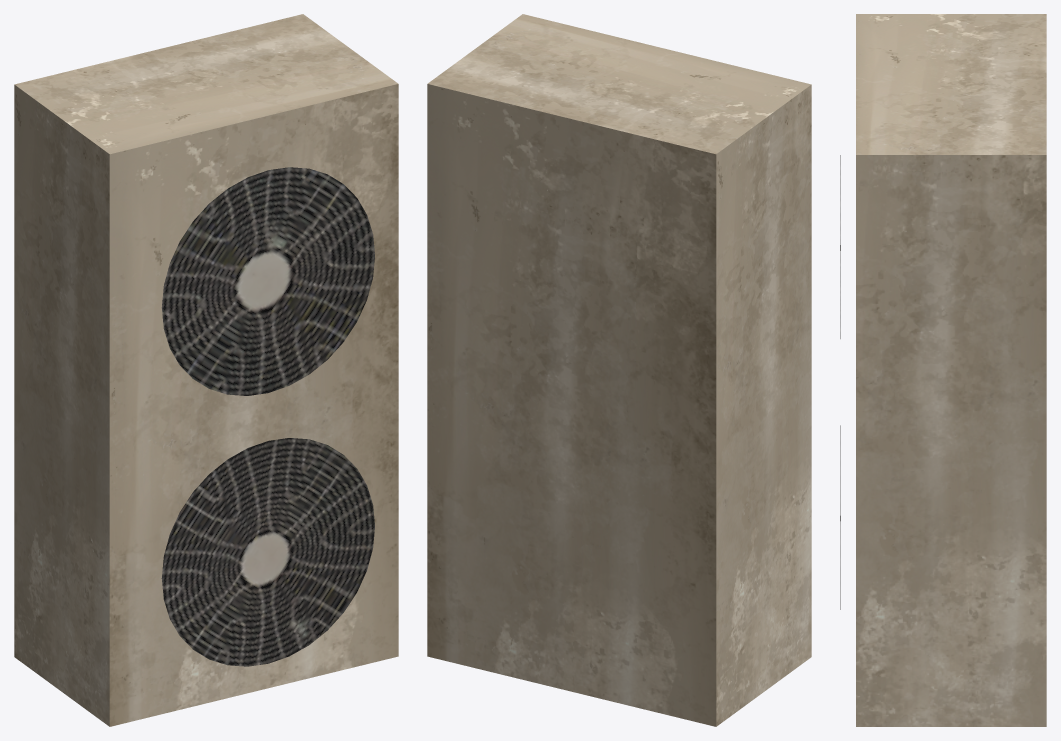
The model's file is VentsTall.fbx.
The picture shows the model from 3 angles, left to right: view 1: azimuth 30°, elevation 25°; view 2: azimuth 150°, elevation 25°; view 3: azimuth 270°, elevation 25°; orthographic projection.
Parts seen in each view (by area): view 1: VentsTall; view 2: VentsTall; view 3: VentsTall.
Part boxes in pixels (bbox=[...]): VentsTall: bbox=[14, 14, 398, 726]; VentsTall: bbox=[427, 14, 811, 726]; VentsTall: bbox=[840, 14, 1046, 726].
Size of the model in its own units: 0.5816 by 0.3604 by 1.1.
